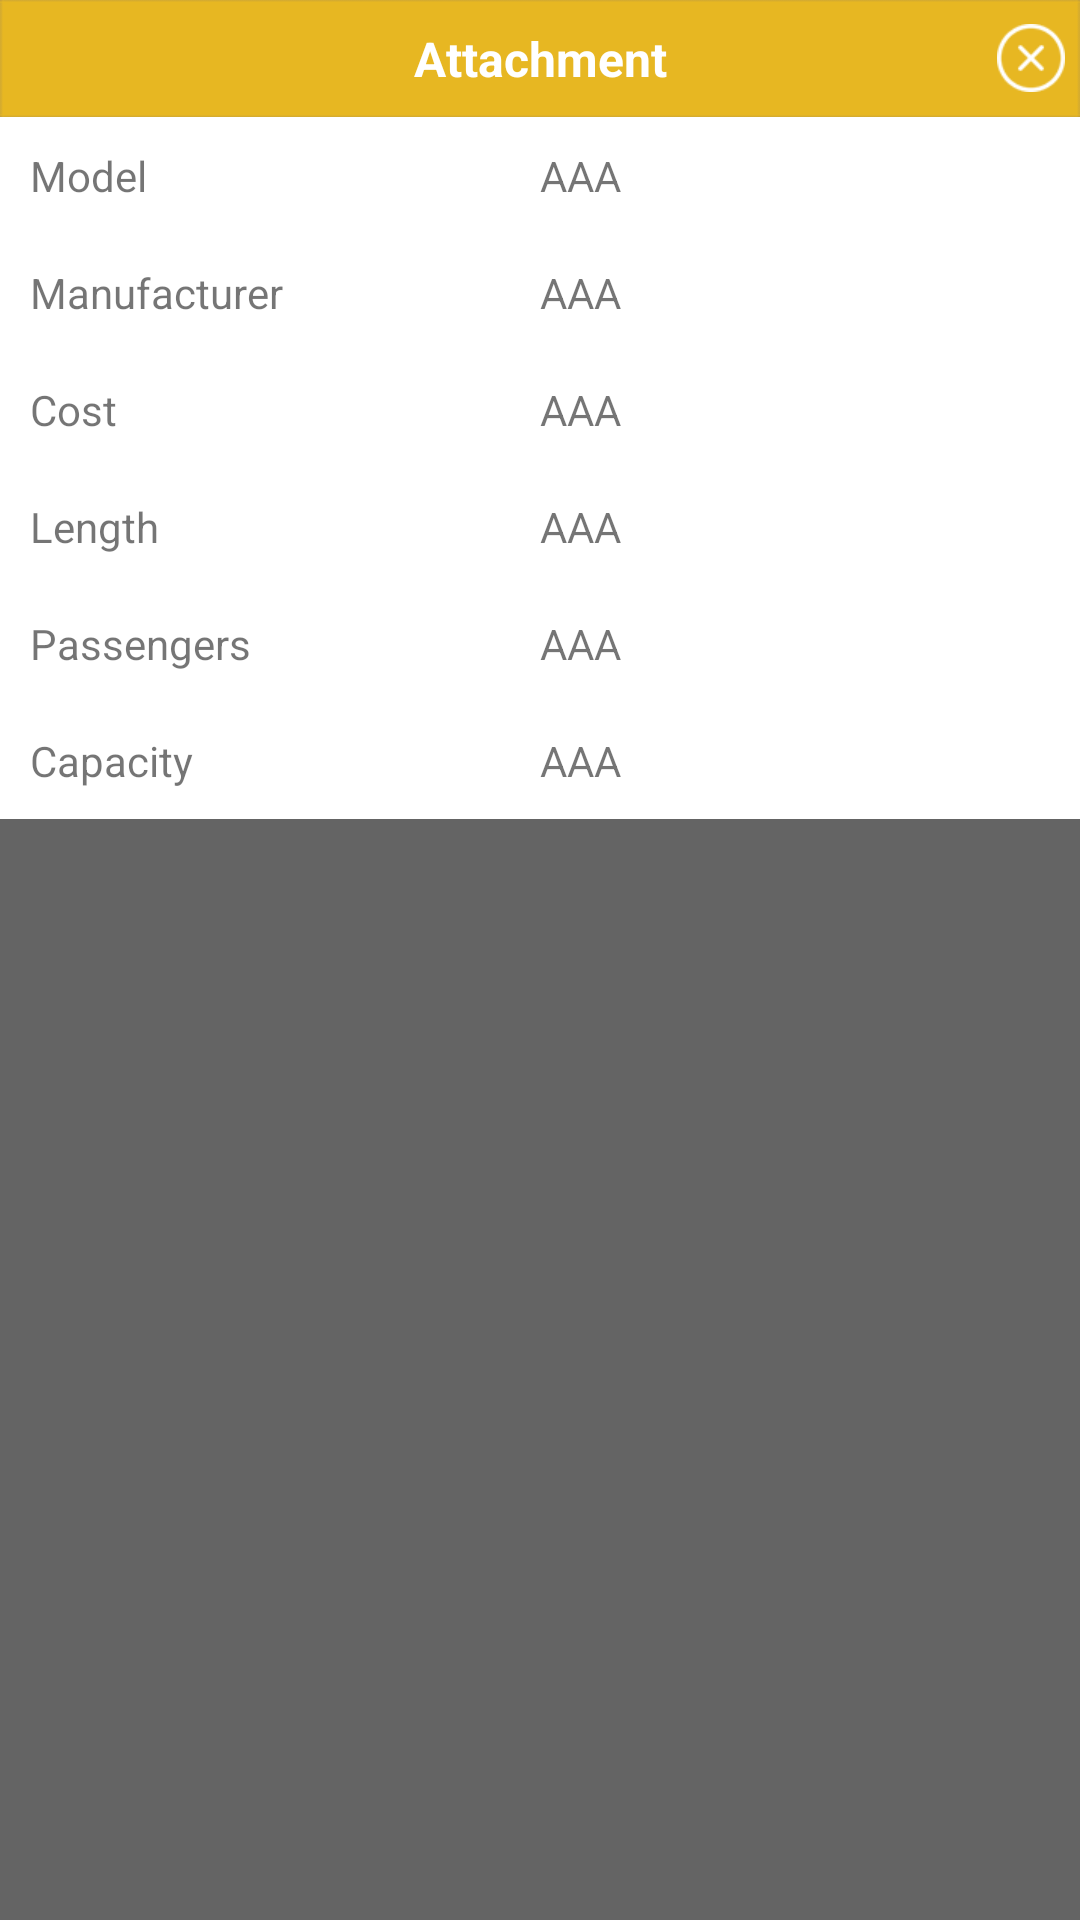

Screen size 1080px x 1920px. Icon name, then its box in pixels as [x1=x1, y1=y1, x2=x2, y2=y2]:
close: [x1=997, y1=24, x2=1065, y2=92]
